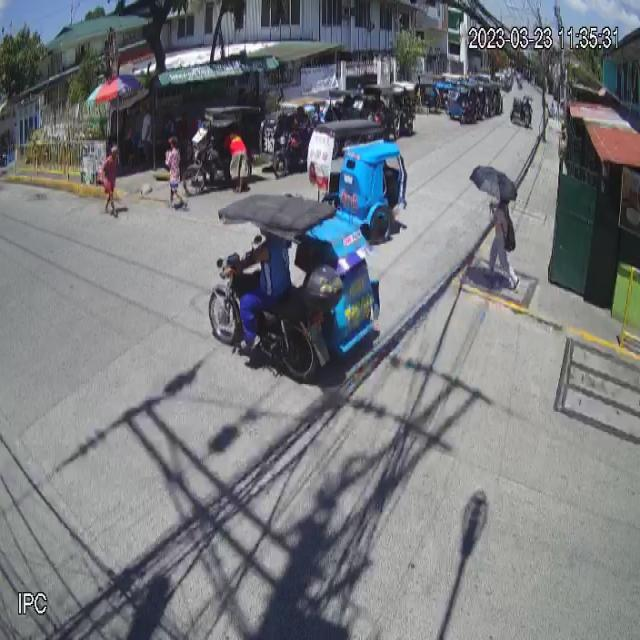Tricycle: (207, 188, 383, 386), (307, 119, 409, 243)
